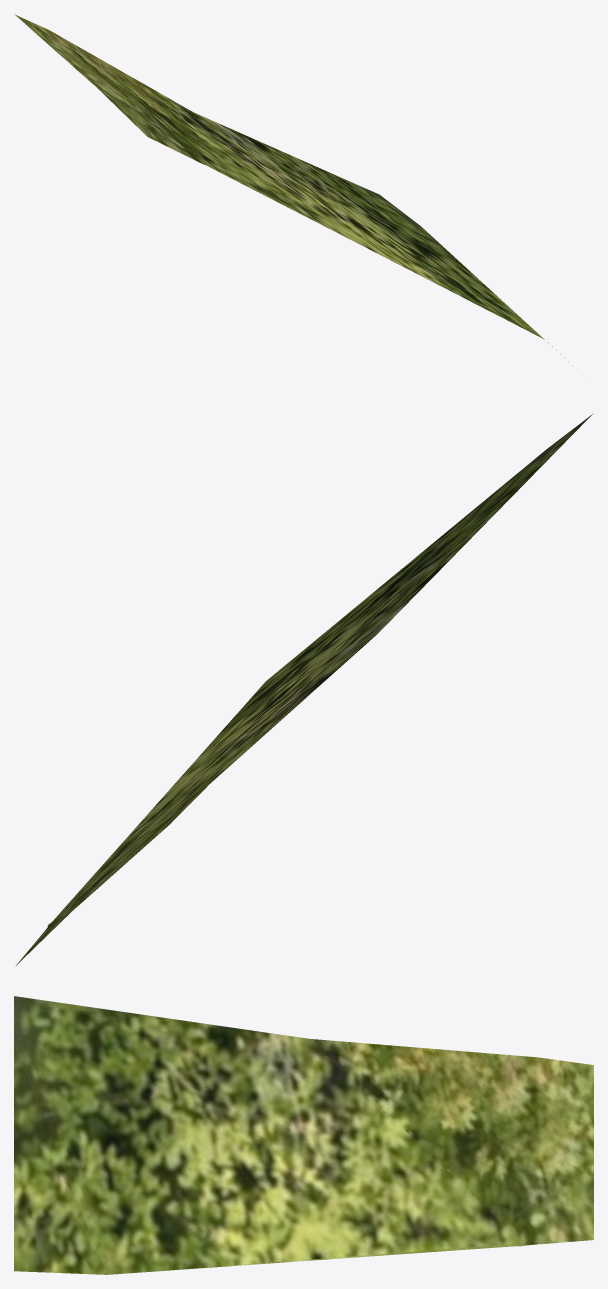
The picture shows the model from 3 angles, top to bottom: view 1: azimuth 30°, elevation 25°; view 2: azimuth 150°, elevation 25°; view 3: azimuth 270°, elevation 25°; orthographic projection. The views are drawn at different scales.
Size of the model in its own units: 1.04 by 1.08 by 2.95.
1 material, 1 textured.
